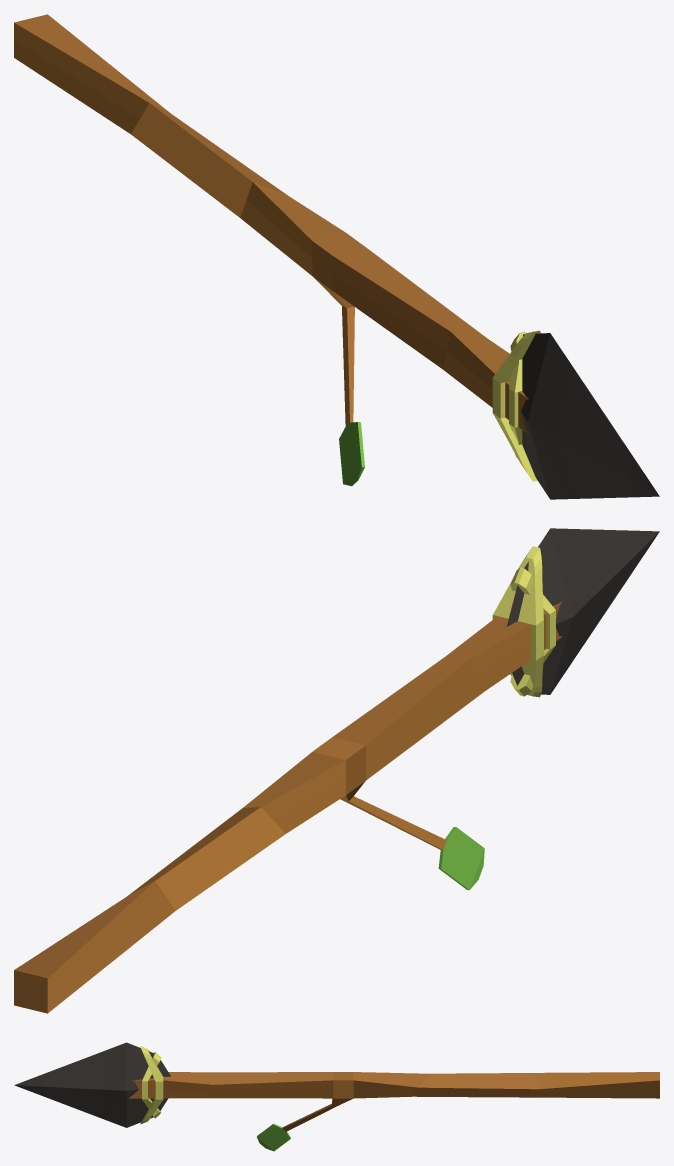
The model's file is Flint Spear.fbx.
The picture shows the model from 3 angles, top to bottom: view 1: azimuth 30°, elevation 25°; view 2: azimuth 150°, elevation 25°; view 3: azimuth 270°, elevation 25°; orthographic projection. The views are drawn at different scales.
Visible parts, largest first — view 1: Flint.001; view 2: Flint.001; view 3: Flint.001.
Boxes of the visible parts, left/top/right/bottom form: Flint.001: left=14, top=14, right=659, bottom=499; Flint.001: left=14, top=528, right=659, bottom=1013; Flint.001: left=14, top=1042, right=659, bottom=1151.
Size of the model in its own units: 63.13 by 168 by 793.
